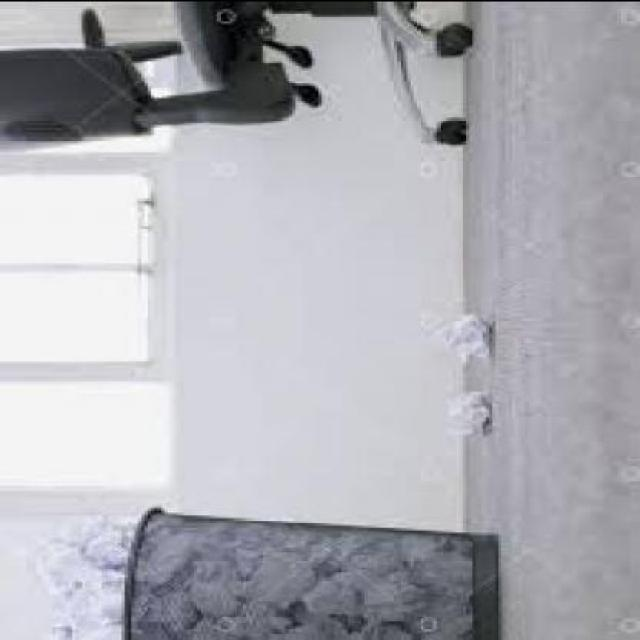PAPER: (240, 545, 315, 601), (417, 307, 492, 353), (407, 543, 465, 595), (27, 534, 88, 583), (355, 573, 419, 618), (434, 388, 495, 434), (404, 598, 473, 638), (65, 571, 118, 623), (72, 509, 125, 558), (147, 524, 190, 581), (306, 568, 354, 614), (144, 588, 190, 628), (342, 536, 400, 566), (384, 526, 433, 557), (187, 560, 236, 591), (321, 524, 377, 551), (36, 605, 72, 638), (203, 523, 237, 554), (209, 610, 243, 638), (276, 618, 322, 638), (272, 529, 306, 551), (312, 618, 346, 638), (193, 593, 230, 610), (344, 618, 374, 638), (187, 618, 213, 638), (75, 627, 118, 638), (246, 526, 272, 543)
